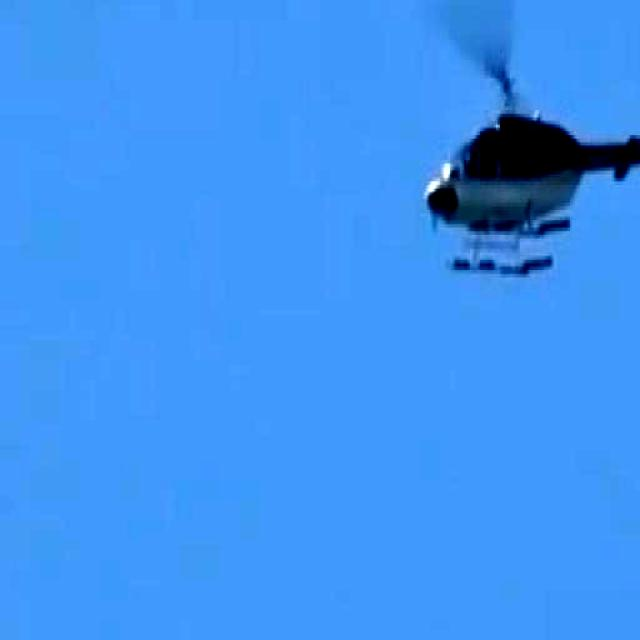drone: (411, 0, 640, 286)
